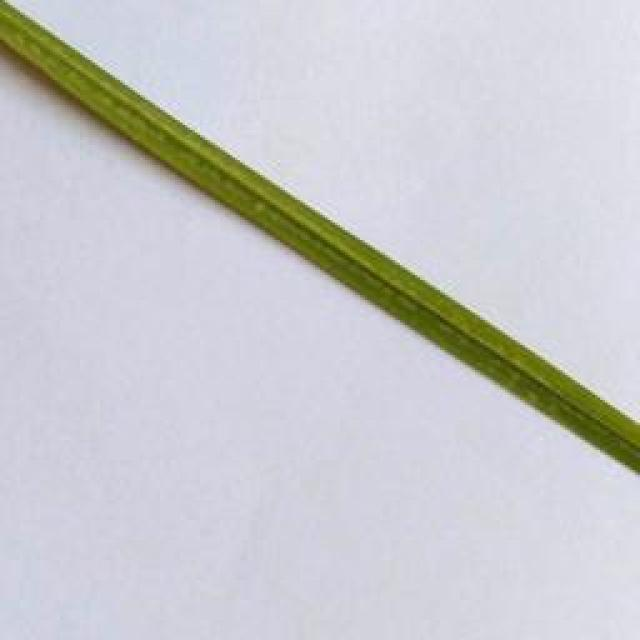Healthy-Plant: (0, 2, 640, 470)
